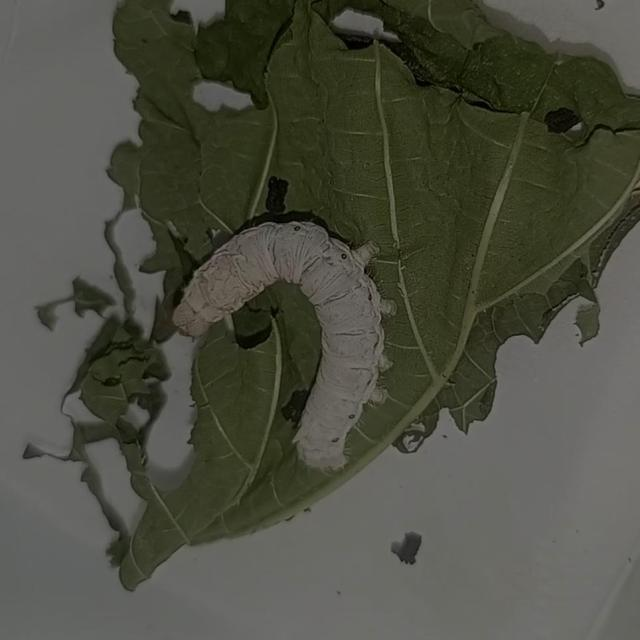Healthy: (160, 183, 426, 493)
